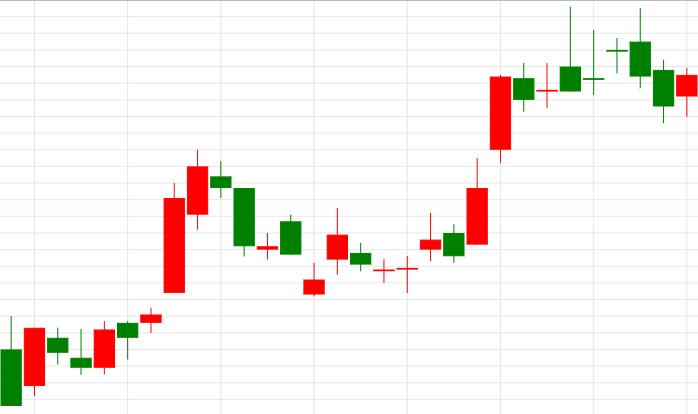evening_star_fall: (70, 147, 254, 375)
shooting_star_fall: (397, 5, 582, 293)
